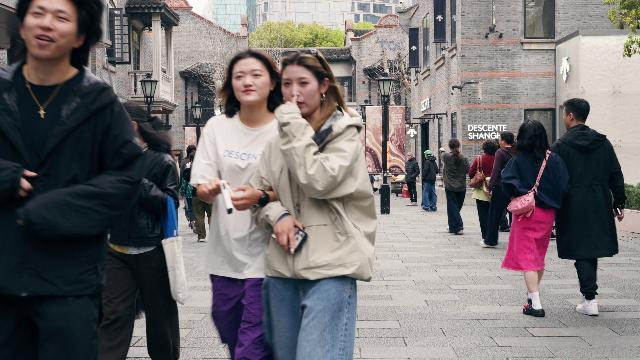person: (0, 0, 145, 360), (246, 47, 377, 360), (189, 47, 285, 360), (548, 98, 627, 316), (500, 119, 570, 318), (481, 131, 516, 248), (468, 139, 500, 241), (439, 138, 471, 236), (417, 150, 439, 212), (404, 152, 420, 206)
